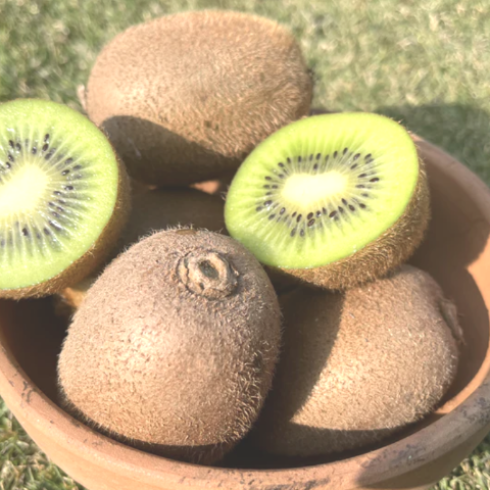kiwi: (48, 189, 295, 471), (62, 5, 319, 193)
